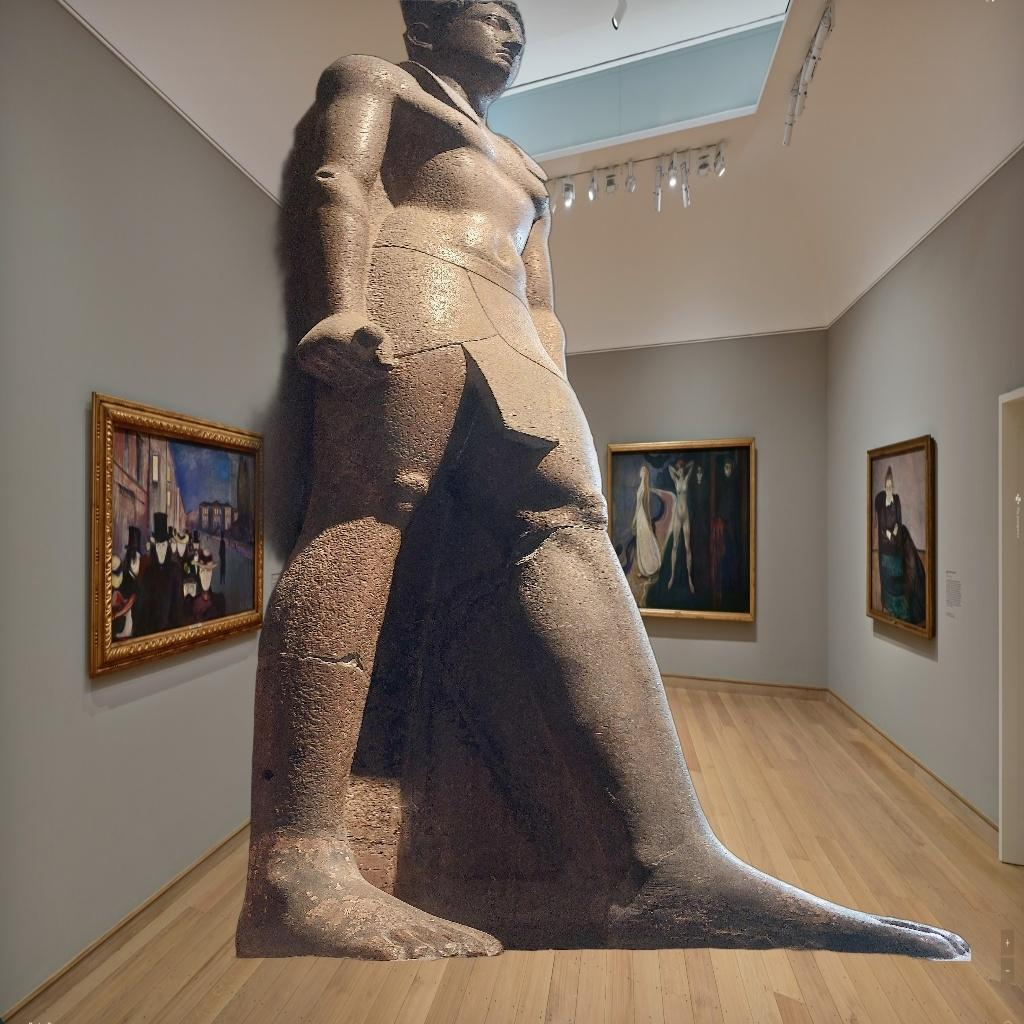Augustus: (232, 0, 972, 962)
